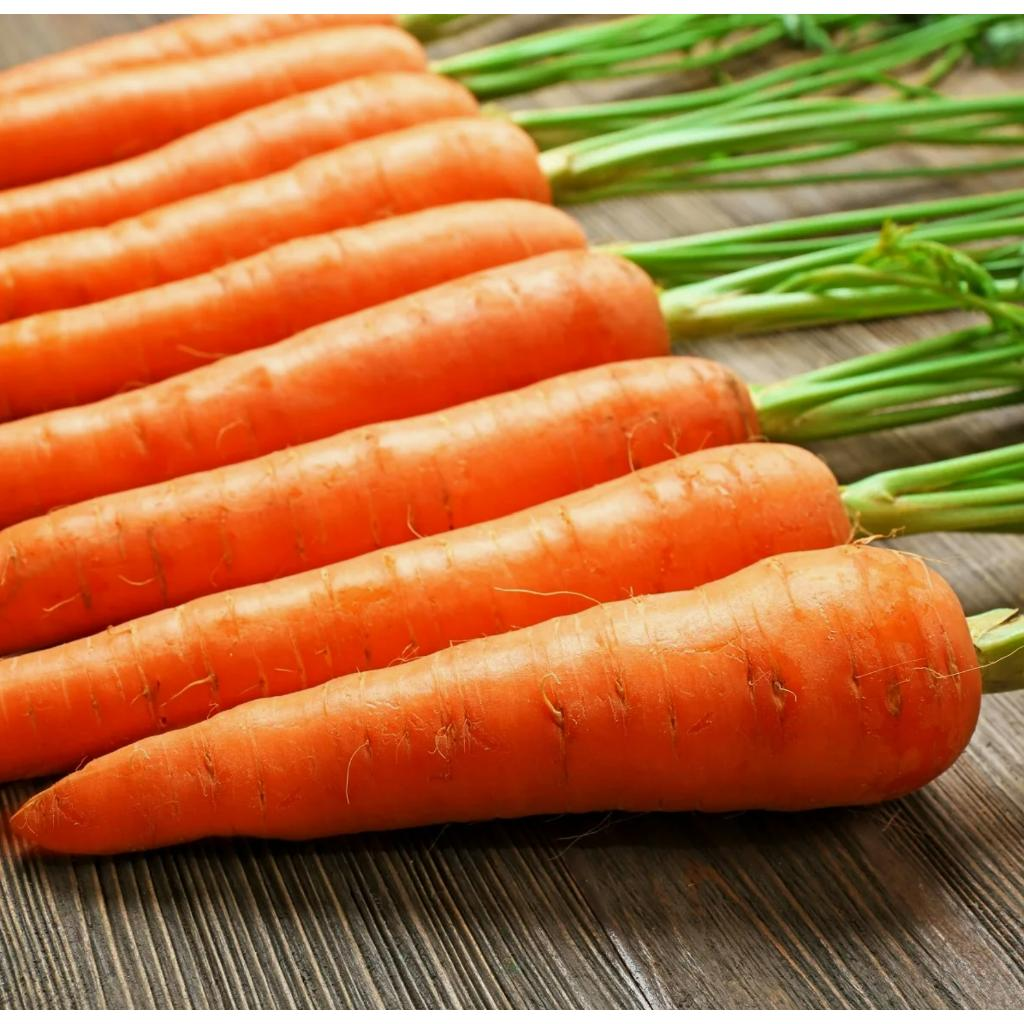carrot: (12, 544, 982, 854), (0, 444, 852, 781), (0, 356, 760, 653), (0, 250, 670, 525), (0, 200, 586, 421), (0, 116, 550, 321), (0, 72, 478, 247), (0, 26, 426, 187), (0, 14, 396, 97)
